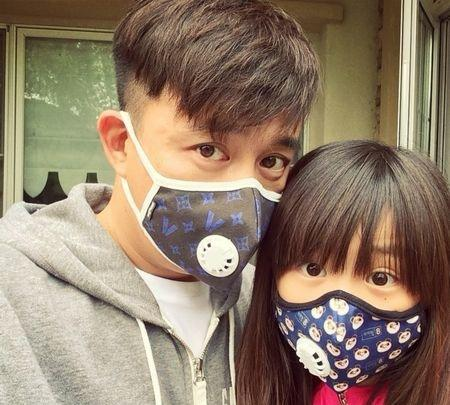OK: (138, 115, 294, 271), (277, 237, 426, 386)
